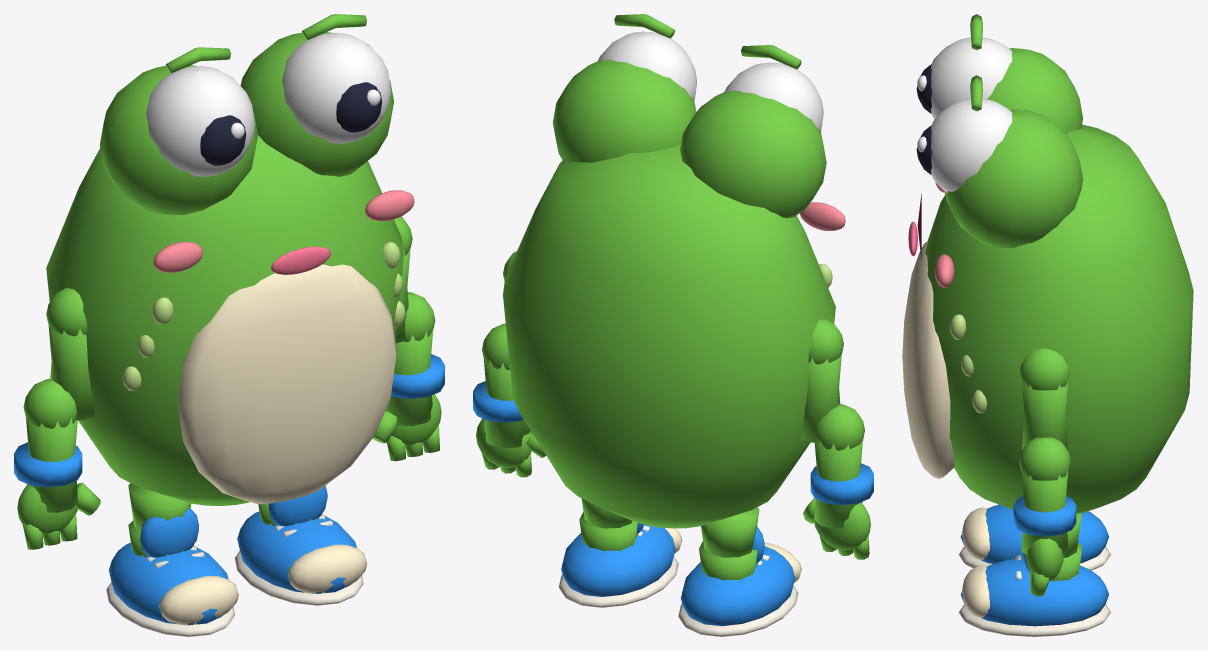
File: bongo.glb
3 views of the same model, side by side, from view 1: azimuth 30°, elevation 25°; view 2: azimuth 150°, elevation 25°; view 3: azimuth 270°, elevation 25° (orthographic). The views are drawn at different scales.
Parts seen in each view (by area): view 1: Belly, Lace, Lace.003, Eye white, Eye white.001, Finger, Joint.001, Joint, Finger.003, Joint.003, Knee pad, Catchlight.001 (+7 smaller); view 2: Belly, Lace, Lace.003, Joint.001, Finger, Joint, Eye white, Eye white.001, Finger.003, Joint.003, Leg, Knee pad (+4 smaller); view 3: Belly, Lace.003, Eye white.001, Lace, Eye white, Joint.002, Joint.003, Finger.003, Knee pad.001, Catchlight, Catchlight.001, Smile.
Part boxes in pixels (<box>): Belly: <box>46,32,414,505</box>; Lace: <box>106,542,238,636</box>; Lace.003: <box>234,511,367,605</box>; Eye white: <box>146,66,254,176</box>; Eye white.001: <box>282,33,390,143</box>; Finger: <box>14,442,100,549</box>; Joint.001: <box>23,378,78,512</box>; Joint: <box>46,288,94,420</box>; Finger.003: <box>372,354,444,461</box>; Joint.003: <box>385,292,435,426</box>; Knee pad: <box>128,508,198,557</box>; Catchlight.001: <box>336,82,382,132</box>; Belly: <box>503,59,845,528</box>; Lace: <box>678,542,801,636</box>; Lace.003: <box>558,524,682,607</box>; Joint.001: <box>814,404,864,528</box>; Finger: <box>803,463,873,559</box>; Joint: <box>800,318,843,442</box>; Eye white: <box>724,62,823,131</box>; Eye white.001: <box>598,31,696,100</box>; Finger.003: <box>473,381,545,477</box>; Joint.003: <box>482,323,531,448</box>; Leg: <box>701,507,759,557</box>; Knee pad: <box>699,526,764,580</box>; Belly: <box>902,48,1193,513</box>; Lace.003: <box>958,555,1110,636</box>; Eye white.001: <box>931,98,1012,192</box>; Lace: <box>958,504,1110,570</box>; Eye white: <box>931,37,1012,119</box>; Joint.002: <box>1019,348,1069,450</box>; Joint.003: <box>1019,437,1070,554</box>; Finger.003: <box>1013,496,1076,596</box>; Knee pad.001: <box>1023,543,1081,581</box>; Catchlight: <box>916,64,931,113</box>; Catchlight.001: <box>916,125,931,174</box>; Smile: <box>908,193,921,260</box>.
Bounding box in the file's own units: 1.12 × 1.5 × 0.725.
